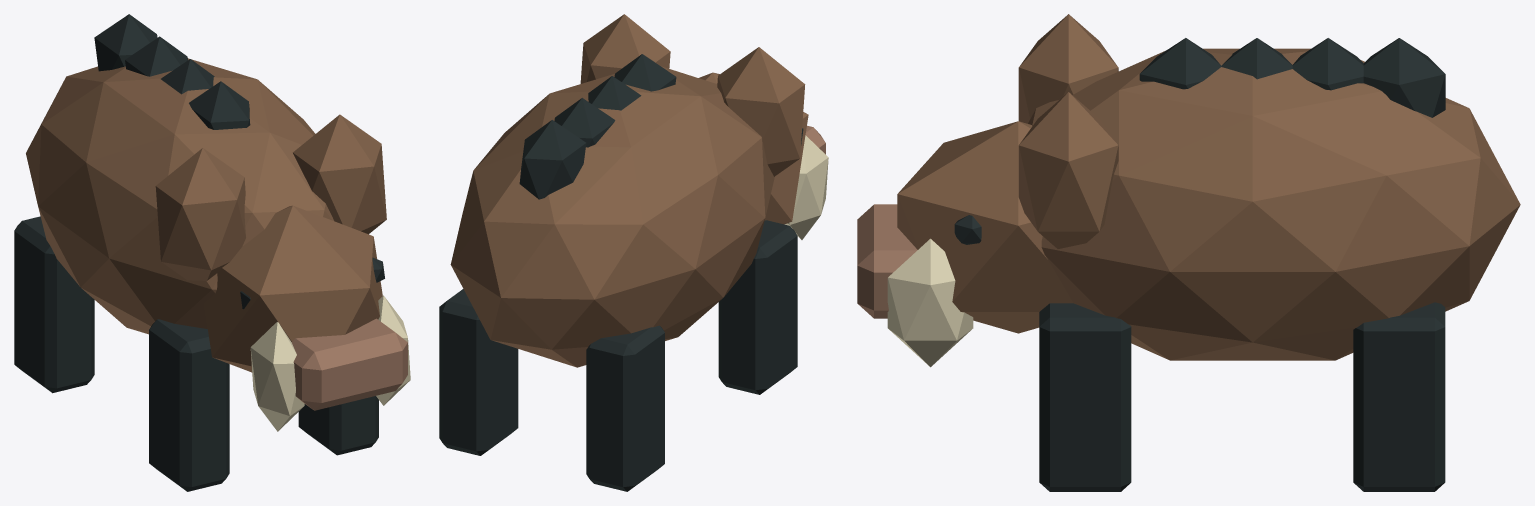
The model's file is boar.glb.
3 renders of one model, left to right at view 1: azimuth 30°, elevation 25°; view 2: azimuth 150°, elevation 25°; view 3: azimuth 270°, elevation 25°, orthographic. The views are drawn at different scales.
Parts seen in each view (by area): view 1: BoarBody, BoarHead, Hoof-1-0.32, Hoof-10.43, Ear-1, Snout, Ear1, Tusk-1, Hoof1-0.32, Bristle3, Bristle0, Bristle2 (+2 smaller); view 2: BoarBody, Hoof-10.43, Hoof-1-0.32, Hoof10.43, Ear-1, Bristle3, Ear1, Tusk-1, BoarHead, Bristle2, Bristle0, Bristle1; view 3: BoarBody, BoarHead, Hoof1-0.32, Hoof10.43, Ear1, Tusk1, Ear-1, Snout, Bristle3, Bristle0, Bristle2, Bristle1.
Boxes of the visible parts, x1,y1,x2,y2 form: BoarBody: [26, 58, 333, 334]; BoarHead: [204, 205, 382, 372]; Hoof-1-0.32: [149, 319, 229, 491]; Hoof-10.43: [14, 216, 94, 393]; Ear-1: [155, 148, 245, 280]; Snout: [292, 318, 407, 410]; Ear1: [293, 114, 386, 234]; Tusk-1: [250, 322, 304, 431]; Hoof1-0.32: [298, 396, 378, 455]; Bristle3: [94, 14, 157, 71]; Bristle0: [189, 81, 250, 129]; Bristle2: [125, 36, 187, 76]; BoarBody: [450, 66, 774, 367]; Hoof-10.43: [586, 325, 664, 491]; Hoof-1-0.32: [718, 220, 797, 394]; Hoof10.43: [439, 289, 518, 455]; Ear-1: [717, 47, 805, 176]; Bristle3: [519, 120, 586, 199]; Ear1: [580, 14, 670, 83]; Tusk-1: [785, 135, 828, 239]; BoarHead: [699, 72, 808, 224]; Bristle2: [554, 98, 615, 147]; Bristle0: [614, 54, 676, 91]; Bristle1: [588, 76, 641, 110]; BoarBody: [1028, 48, 1520, 360]; BoarHead: [897, 121, 1072, 333]; Hoof1-0.32: [1039, 303, 1131, 491]; Hoof10.43: [1353, 302, 1445, 491]; Ear1: [1018, 92, 1118, 248]; Tusk1: [887, 238, 973, 367]; Ear-1: [1018, 14, 1118, 123]; Snout: [857, 204, 917, 318]; Bristle3: [1363, 38, 1445, 117]; Bristle0: [1139, 38, 1221, 89]; Bristle2: [1292, 38, 1363, 90]; Bristle1: [1221, 38, 1292, 79].
Bounding box in the file's own units: 0.7608 × 1.06 × 1.58.
